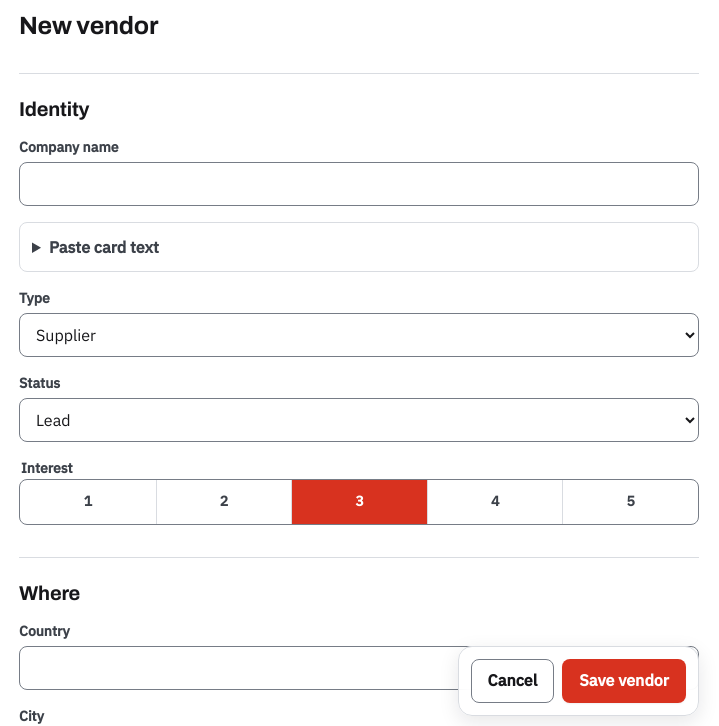
Test: VendorForm › requires a company name before saving
The image size is (719, 726).
Click the button "Save vendor".
click(624, 681)  # box [562,659,686,703]
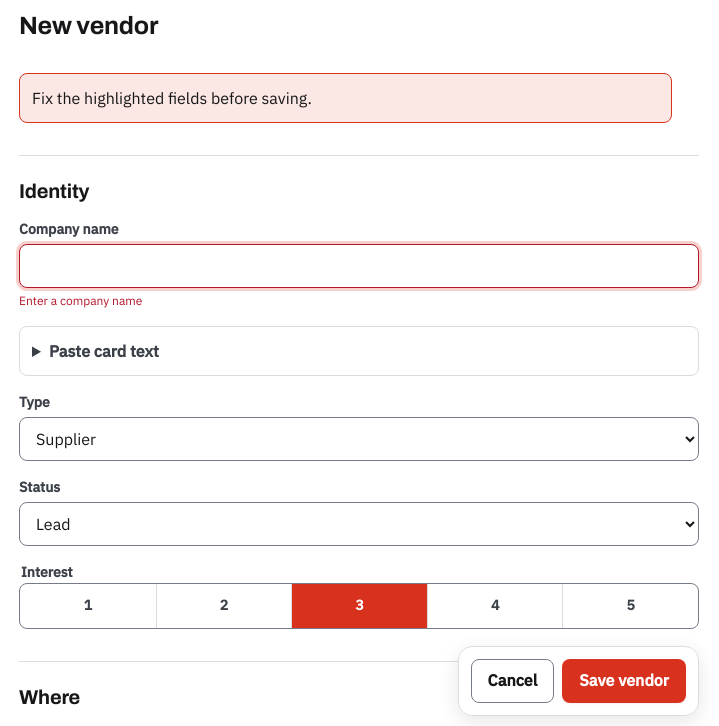
Expected: the text "Enter a company name" is shown, [19,293,142,308]
